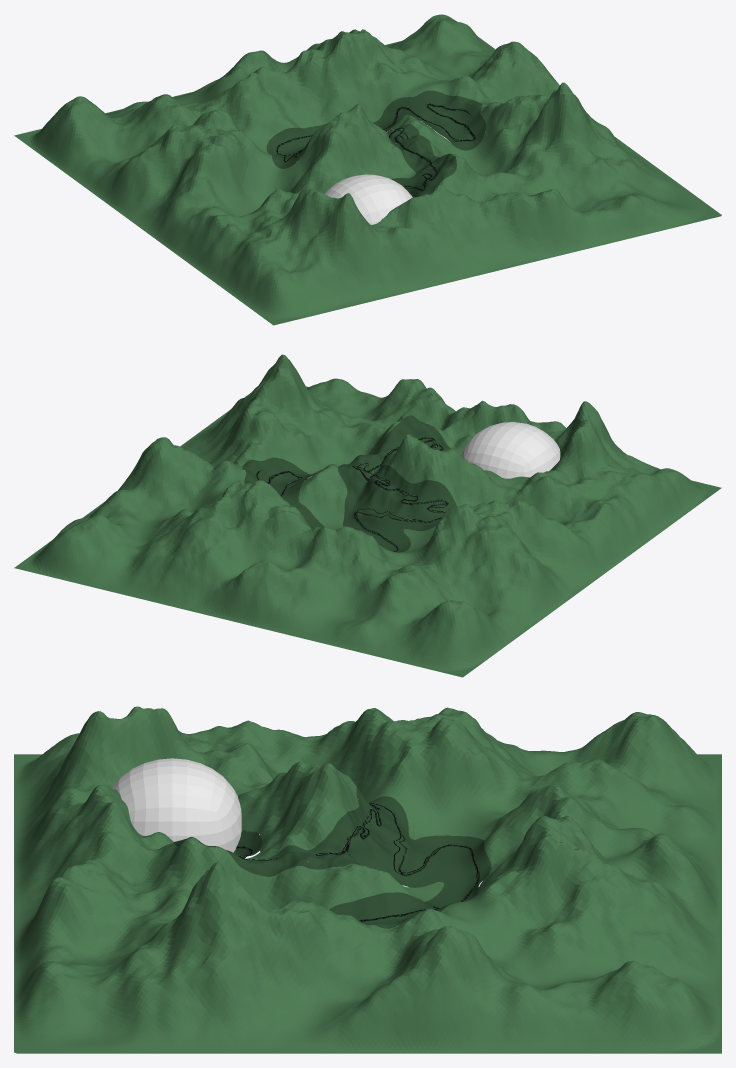
Rendered from Map3.fbx.
3 renders of one model, top to bottom at view 1: azimuth 30°, elevation 25°; view 2: azimuth 150°, elevation 25°; view 3: azimuth 270°, elevation 25°, orthographic. The views are drawn at different scales.
Parts seen in each view (by area): view 1: low-res, high-res, Cube, RoadModel; view 2: low-res, high-res, Cube, RoadModel; view 3: low-res, high-res, Cube, RoadModel.
Boxes of the visible parts, <box> form: low-res: <box>14,14,721,325</box>; high-res: <box>266,90,485,197</box>; Cube: <box>324,174,412,224</box>; RoadModel: <box>277,103,475,191</box>; low-res: <box>14,354,721,677</box>; high-res: <box>242,415,456,552</box>; Cube: <box>461,422,560,478</box>; RoadModel: <box>256,438,447,551</box>; low-res: <box>14,706,721,1053</box>; high-res: <box>174,784,491,928</box>; Cube: <box>111,758,241,852</box>; RoadModel: <box>236,802,478,920</box>.
Bounding box in the file's own units: 800 × 225 × 800.
